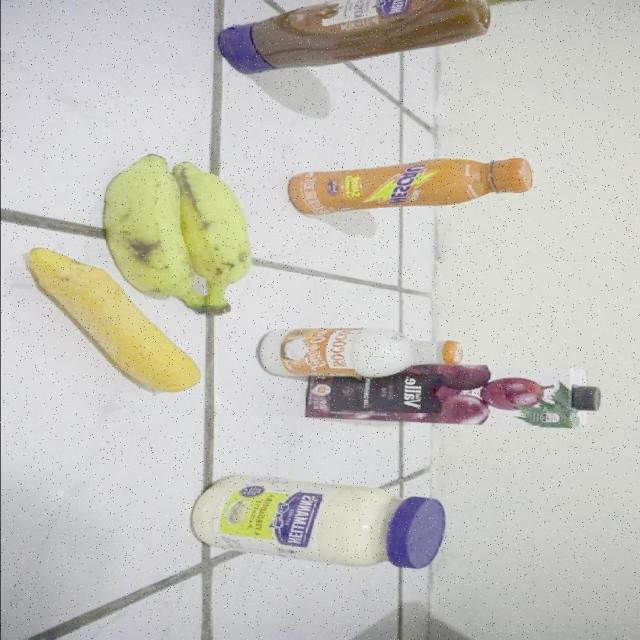Banana: (100, 151, 254, 298)
Carrot: (31, 298, 207, 394)
ChocolateMilk: (289, 156, 534, 217)
CoconutMilk: (261, 326, 465, 376)
Ketchup: (210, 0, 494, 72)
Mayonnaise: (184, 470, 450, 572)
